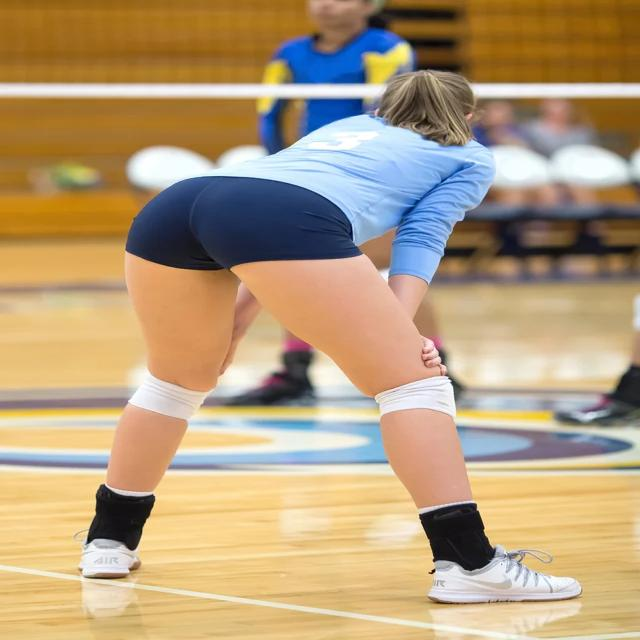stand: (72, 56, 511, 564), (223, 5, 418, 402)
